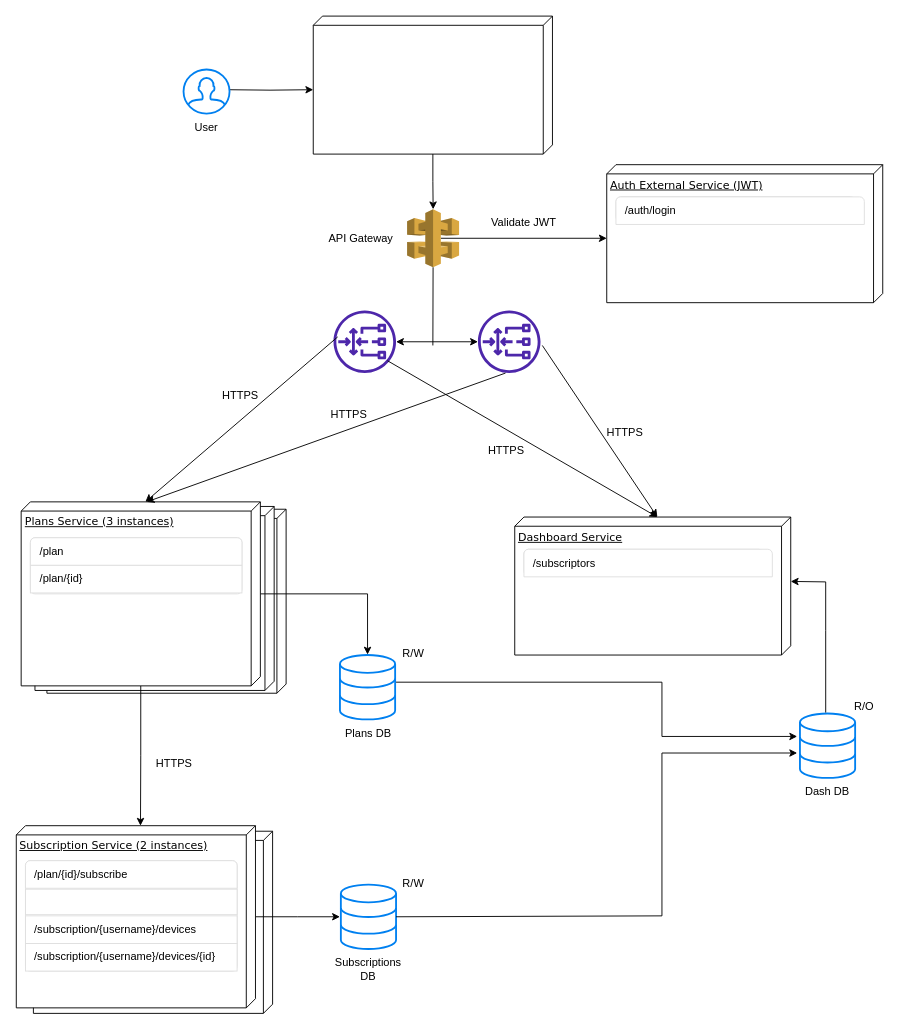
This 908x1029 diagram has some shape labels left out. Each missing label, with the centre of its shape:
"/subscription/{username}" belongs at (131,901).
"Client APP" belongs at (432,84).
